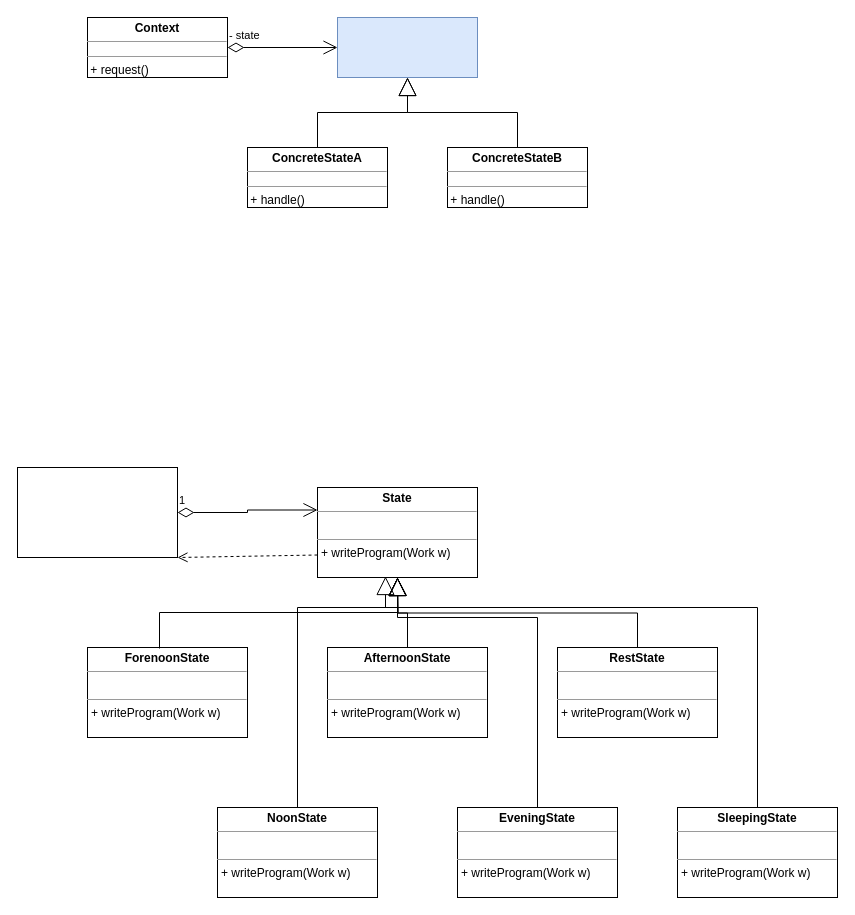
Some shapes in this 855 by 915 pixel diagram are drawn without their labels. Each missing label, with the centre of its shape:
State + handle(): the point at 407,47
Work + request(): the point at 97,512
